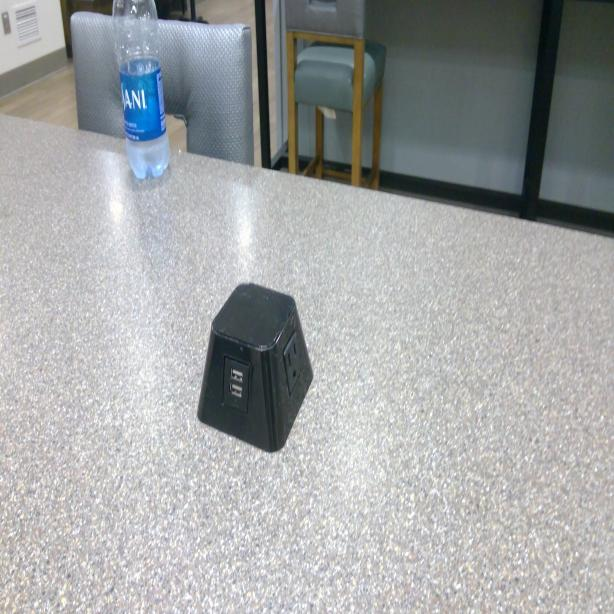typeb: (283, 338, 302, 386)
